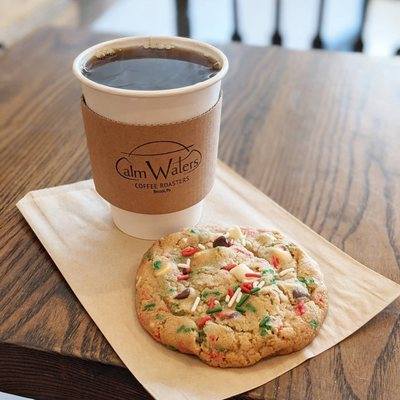pizza: (72, 34, 229, 241)
